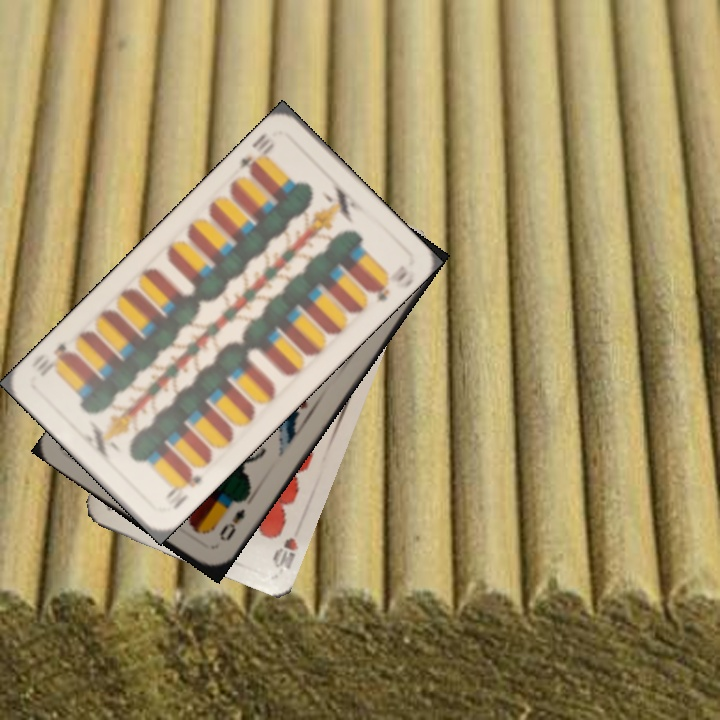E10: (161, 465, 205, 512), (235, 136, 278, 179)
EO: (215, 504, 248, 544)
H10: (268, 533, 301, 572)
